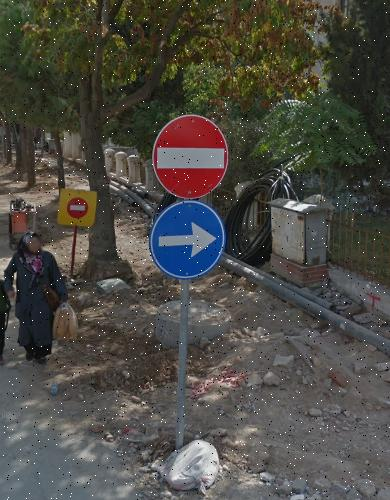turnright: (151, 202, 224, 275)
